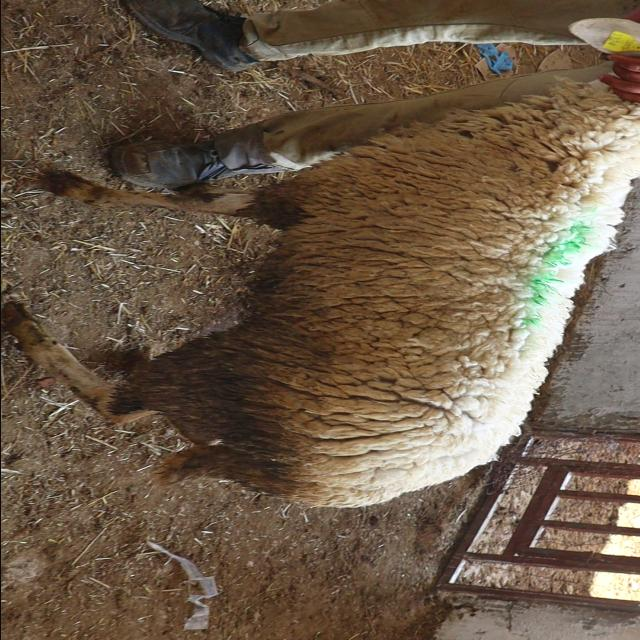Score_3: (3, 81, 640, 507)
